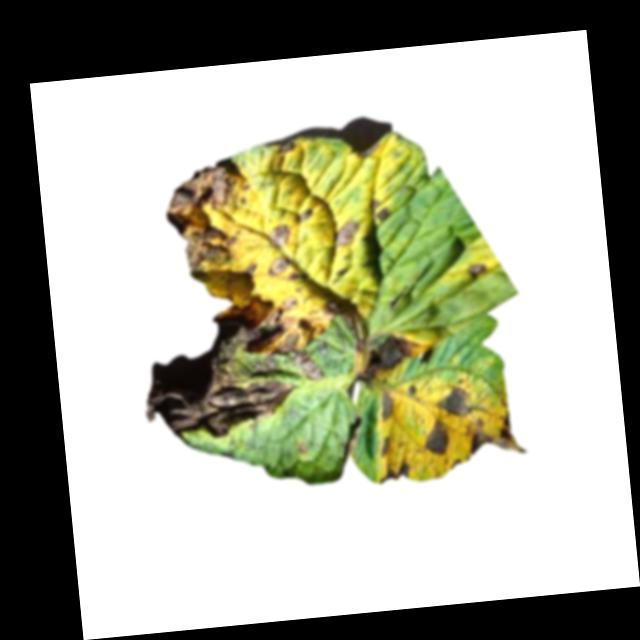Early_blight: (139, 344, 295, 447), (161, 157, 254, 283), (207, 272, 313, 364), (354, 331, 422, 388), (468, 411, 531, 462), (322, 288, 371, 350), (434, 383, 476, 419), (421, 418, 453, 457), (377, 457, 413, 485), (293, 352, 323, 384), (332, 217, 359, 248), (264, 254, 296, 280), (378, 388, 401, 424), (269, 222, 293, 249), (468, 258, 491, 284), (273, 137, 299, 158), (294, 208, 316, 224), (379, 436, 395, 457), (245, 257, 261, 278)
